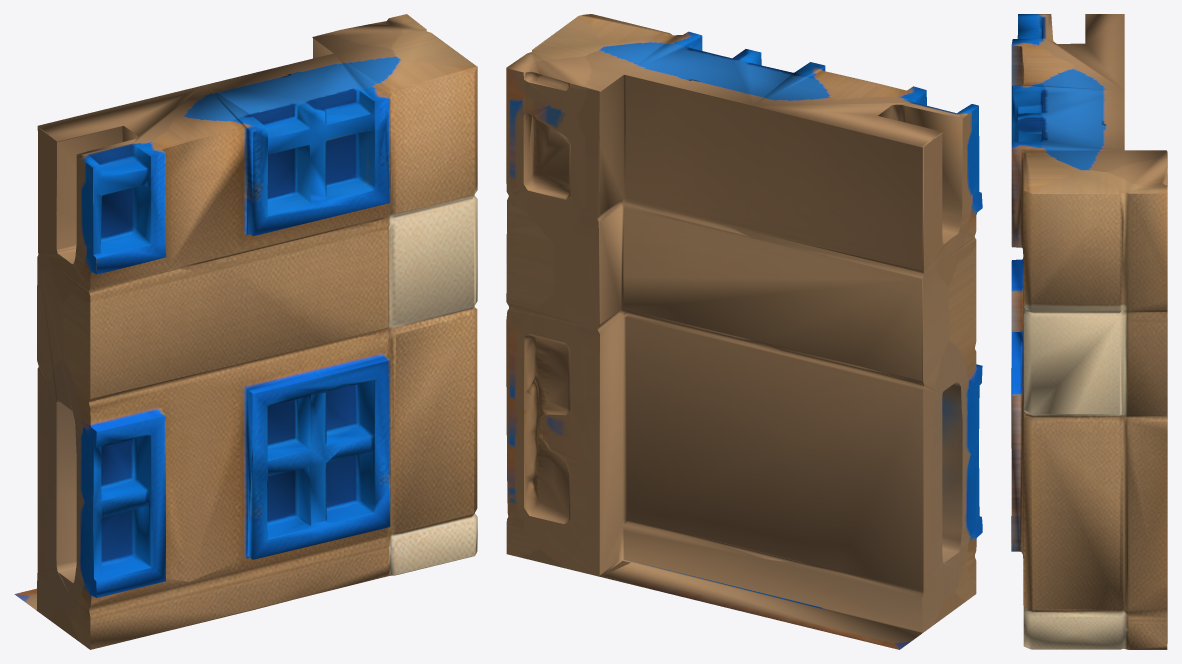
File: 6-upper-walls-front-right.fbx
3 views of the same model, side by side, from view 1: azimuth 30°, elevation 25°; view 2: azimuth 150°, elevation 25°; view 3: azimuth 270°, elevation 25° (orthographic). The views are drawn at different scales.
Parts seen in each view (by area): view 1: upper-walls-front-right; view 2: upper-walls-front-right; view 3: upper-walls-front-right.
Boxes of the visible parts, x1,y1,x2,y2 form: upper-walls-front-right: [14, 14, 477, 649]; upper-walls-front-right: [506, 14, 982, 649]; upper-walls-front-right: [1011, 14, 1167, 649].
Bounding box in the file's own units: 5043 × 5952 × 1845.
1 material, 1 textured.
